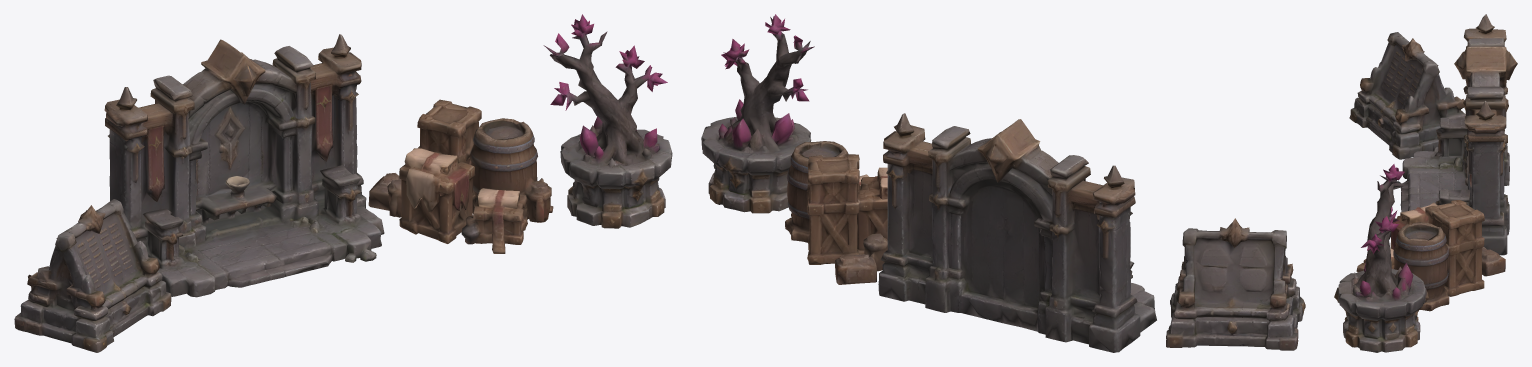
The model's file is hub_props.glb.
The picture shows the model from 3 angles, left to right: view 1: azimuth 30°, elevation 25°; view 2: azimuth 150°, elevation 25°; view 3: azimuth 270°, elevation 25°; orthographic projection. The views are drawn at different scales.
Visible parts, largest first — view 1: tripo_node_4b6d751a-ca65-4887-9dfc-49610e9d88fc; view 2: tripo_node_4b6d751a-ca65-4887-9dfc-49610e9d88fc; view 3: tripo_node_4b6d751a-ca65-4887-9dfc-49610e9d88fc.
Boxes of the visible parts, x1,y1,x2,y2 form: tripo_node_4b6d751a-ca65-4887-9dfc-49610e9d88fc: (14, 14, 672, 352); tripo_node_4b6d751a-ca65-4887-9dfc-49610e9d88fc: (701, 14, 1305, 352); tripo_node_4b6d751a-ca65-4887-9dfc-49610e9d88fc: (1334, 14, 1517, 352).
Bounding box in the file's own units: 1 × 0.2991 × 0.3075.
1 material, 1 textured.
